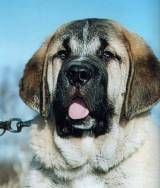mastin_espanol: (17, 17, 160, 188)
